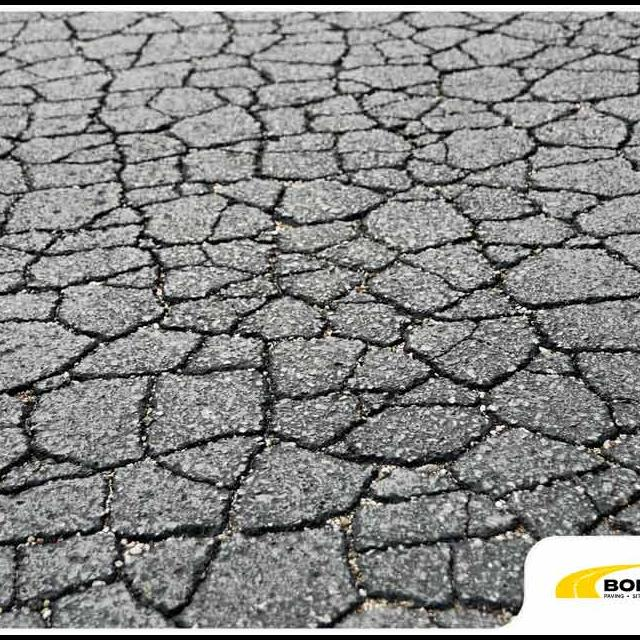retak_kulit_buaya: (0, 5, 640, 521), (0, 5, 521, 635)
